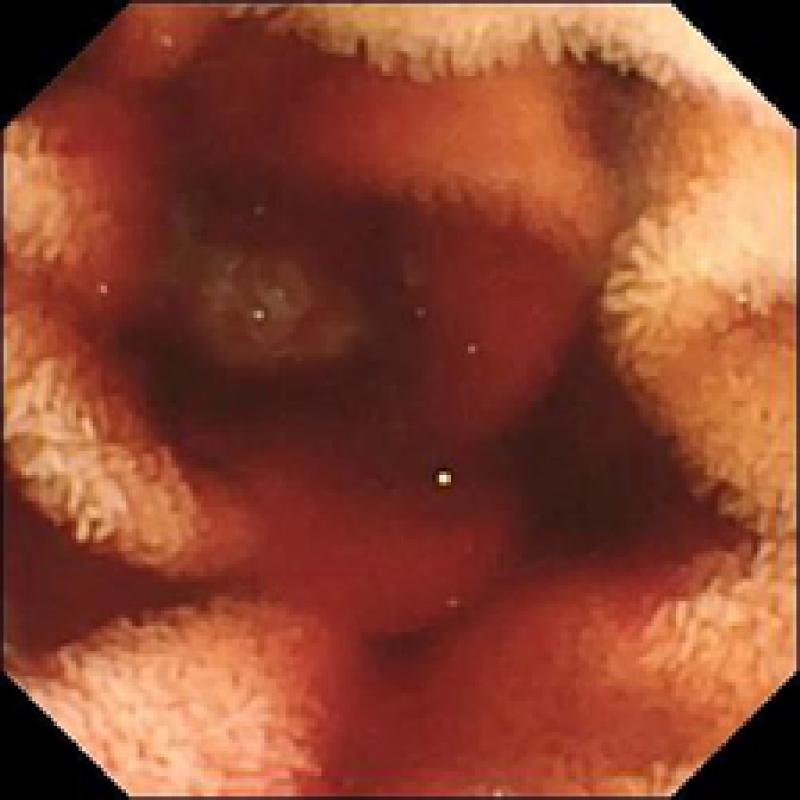bleeding: (54, 0, 622, 800)
